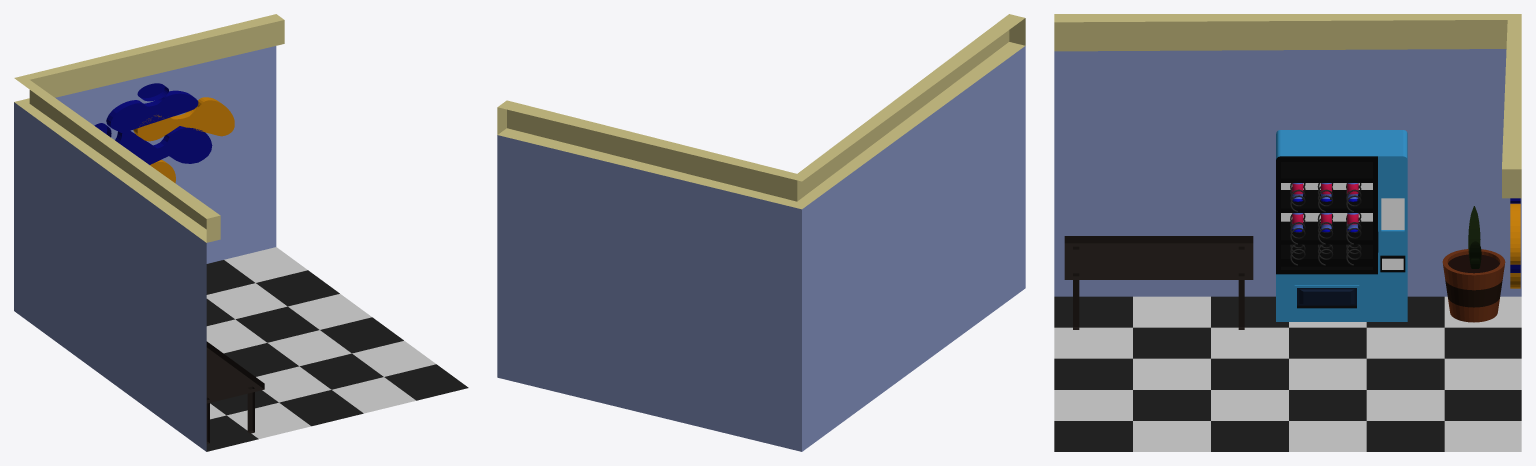
File: All.obj
The picture shows the model from 3 angles, left to right: view 1: azimuth 30°, elevation 25°; view 2: azimuth 150°, elevation 25°; view 3: azimuth 270°, elevation 25°; orthographic projection. The views are drawn at different scales.
Parts seen in each view (by area): view 1: ruangan_Cube.003, meja_Cube.004, logo.001_Circle.019, logo_Circle.006, logo.005_Circle.023; view 2: ruangan_Cube.003; view 3: ruangan_Cube.003, vending_machine_Cube.001, meja_Cube.004, pot_bunga_Cylinder, per_second\_Spiral.010, Plane.007, logo_Circle.006.
Boxes of the visible parts, <box> form: ruangan_Cube.003: <box>14,14,468,451</box>; meja_Cube.004: <box>206,341,264,444</box>; logo.001_Circle.019: <box>115,126,212,164</box>; logo_Circle.006: <box>133,97,234,141</box>; logo.005_Circle.023: <box>106,90,198,133</box>; ruangan_Cube.003: <box>497,14,1025,451</box>; ruangan_Cube.003: <box>1054,14,1521,451</box>; vending_machine_Cube.001: <box>1276,130,1407,321</box>; meja_Cube.004: <box>1064,236,1253,329</box>; pot_bunga_Cylinder: <box>1442,249,1505,322</box>; per_second\_Spiral.010: <box>1290,183,1361,265</box>; Plane.007: <box>1468,206,1481,268</box>; logo_Circle.006: <box>1510,203,1520,264</box>.
Size of the model in its own units: 11.73 by 9.95 by 14.9.
